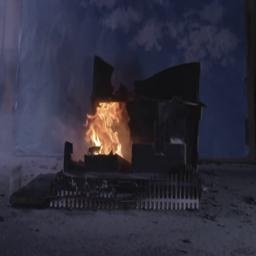fire: (79, 88, 136, 166)
